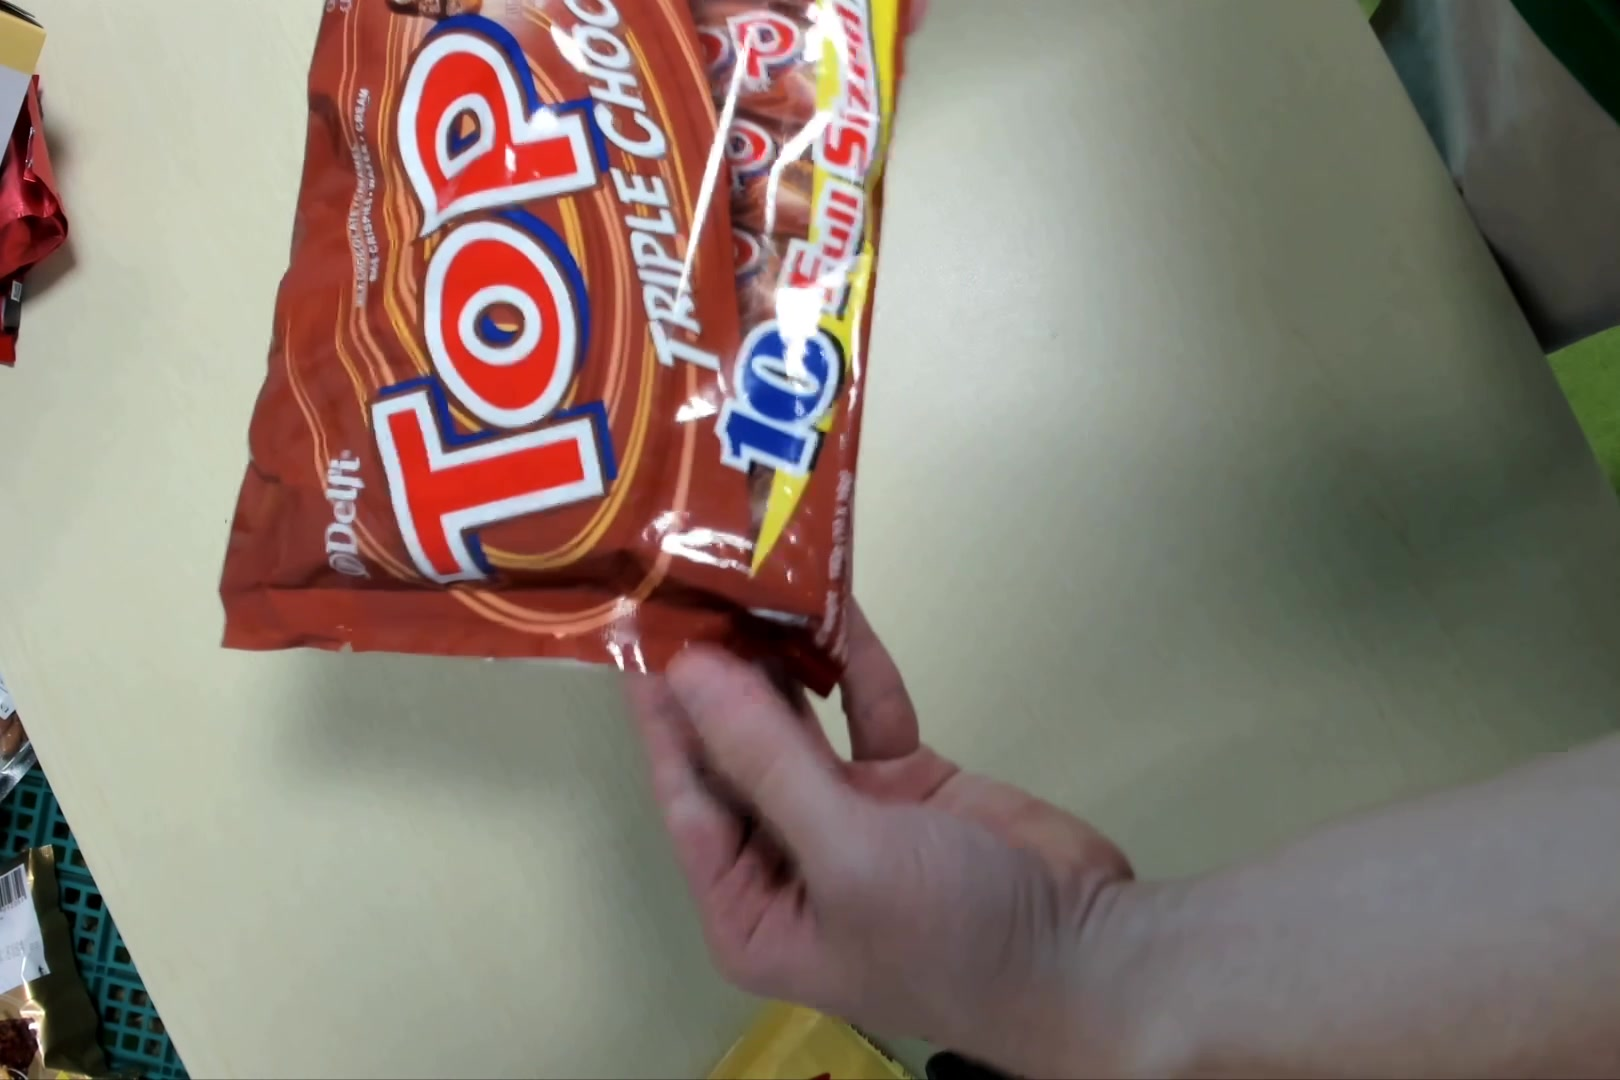SweetsChocolatesOthers_100-199g_NonHalal_NonHealthy: (198, 1, 902, 685)
